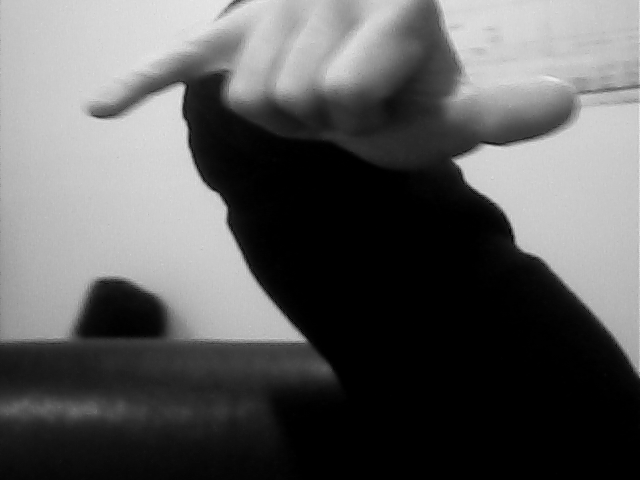aloha: (85, 1, 577, 176)
